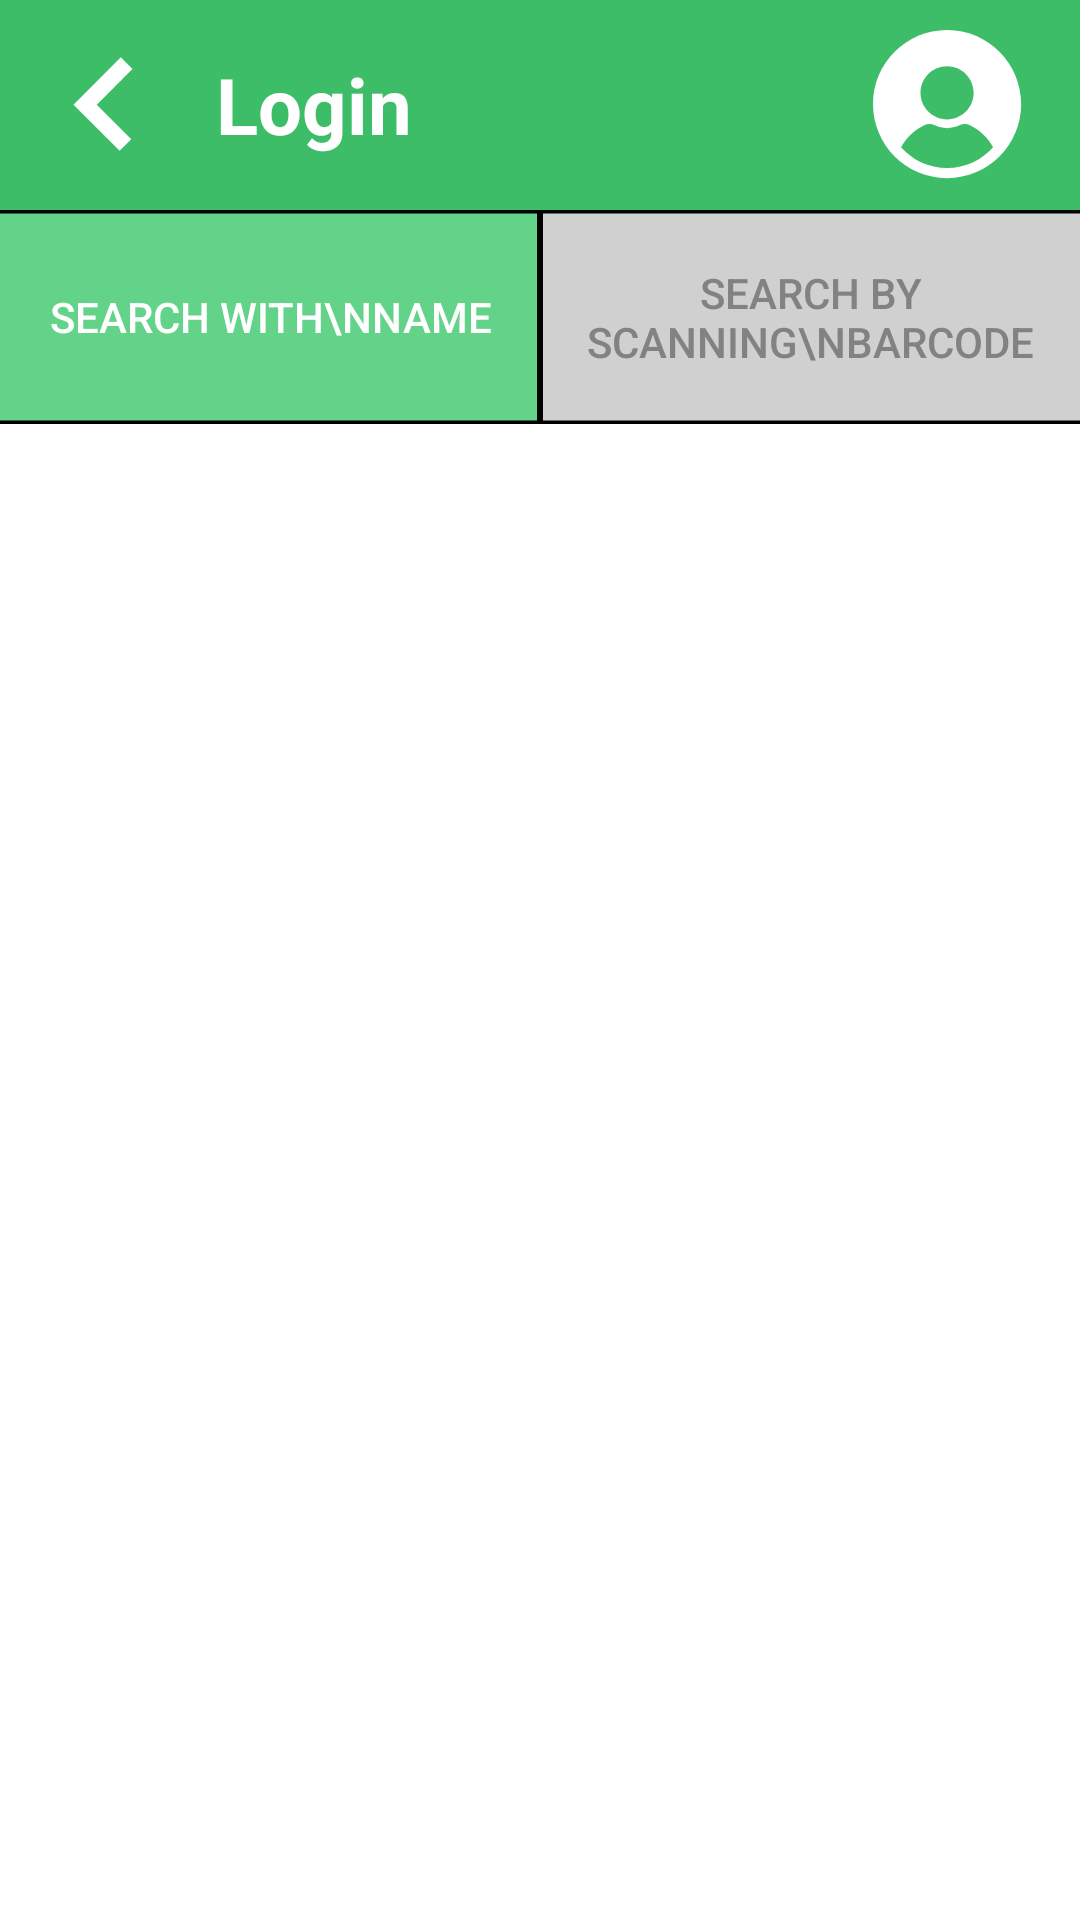

Screen size 1080 x 1920. Icon name, then its box in pixels as (x1, y1, x2, y2):
back: (73, 57, 132, 151)
